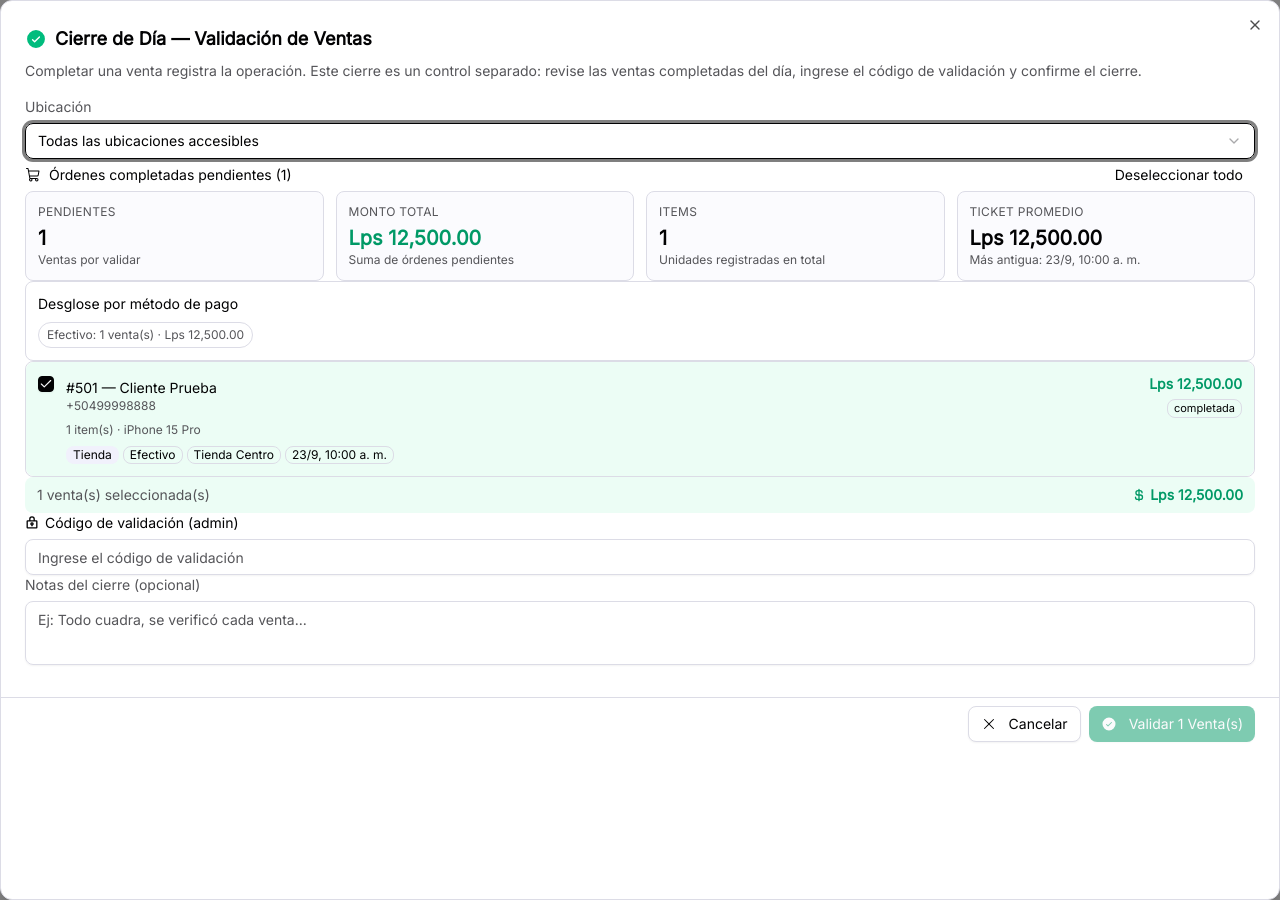
Test: DailyCloseDialog production-critical validation flow › loads completed sales, validates the selected sale and reports a successful close
Expected: the text "#501 — Cliente Prueba" is shown, [66,378,217,398]
Expected: the text "1 venta(s) seleccionada(s)" is shown, [37,485,210,505]
Type "654321" into the password field labelled "Código de validación (admin)" at [640, 557], box [25,539,1255,575]
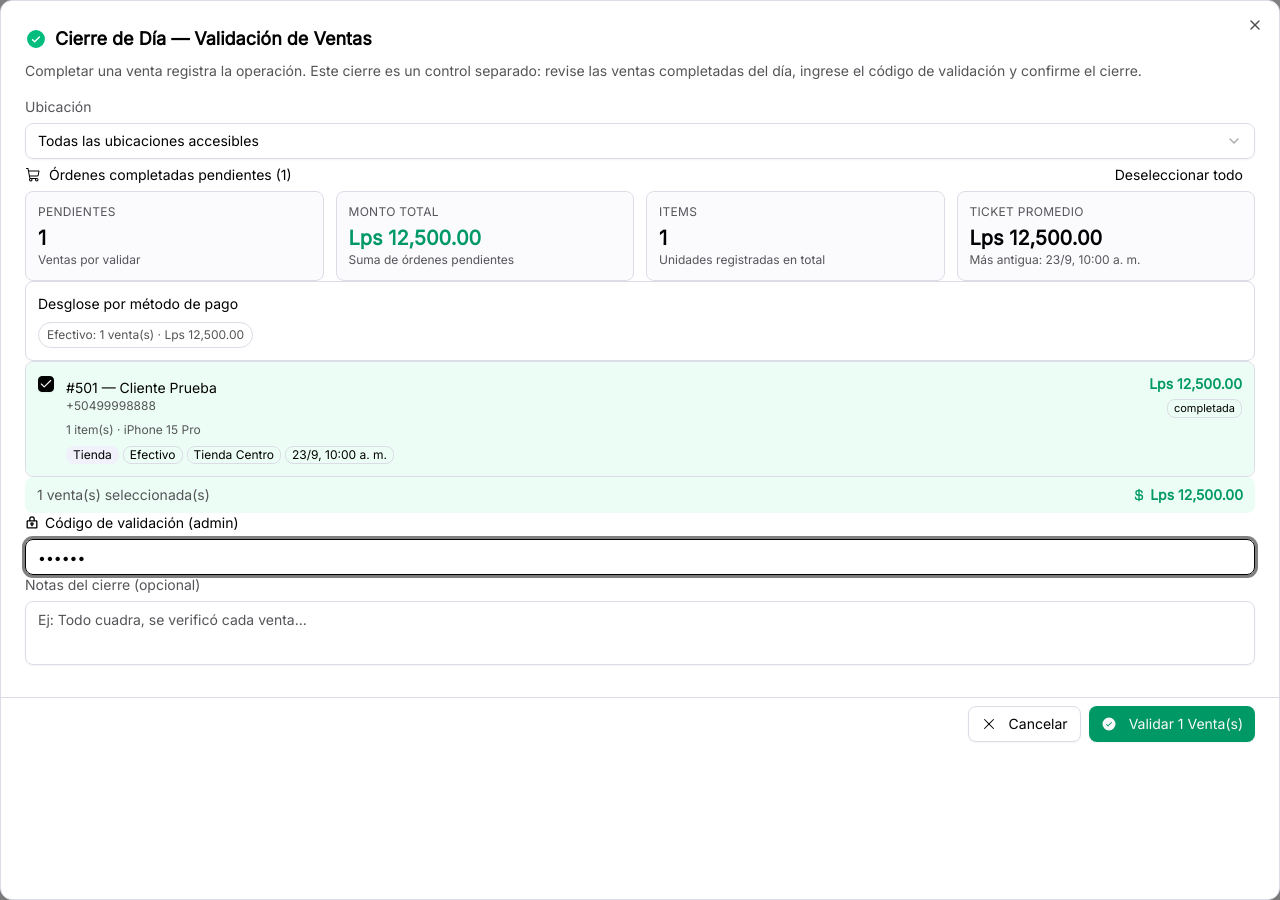
Click the button "Validar 1 Venta(s)" at [1172, 724], box [1089,706,1255,742]
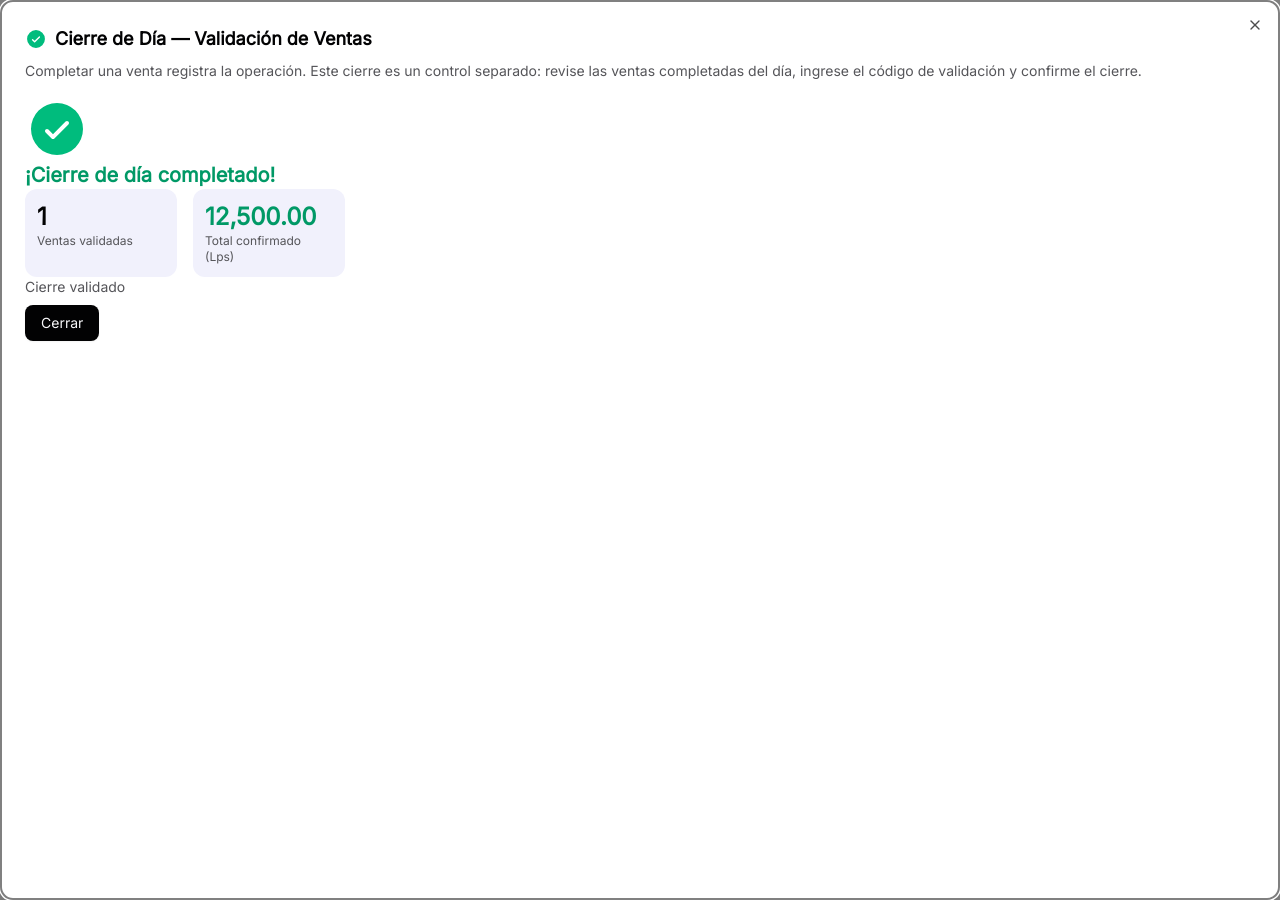
Expected: the heading "¡Cierre de día completado!" is shown, [25,163,275,187]
